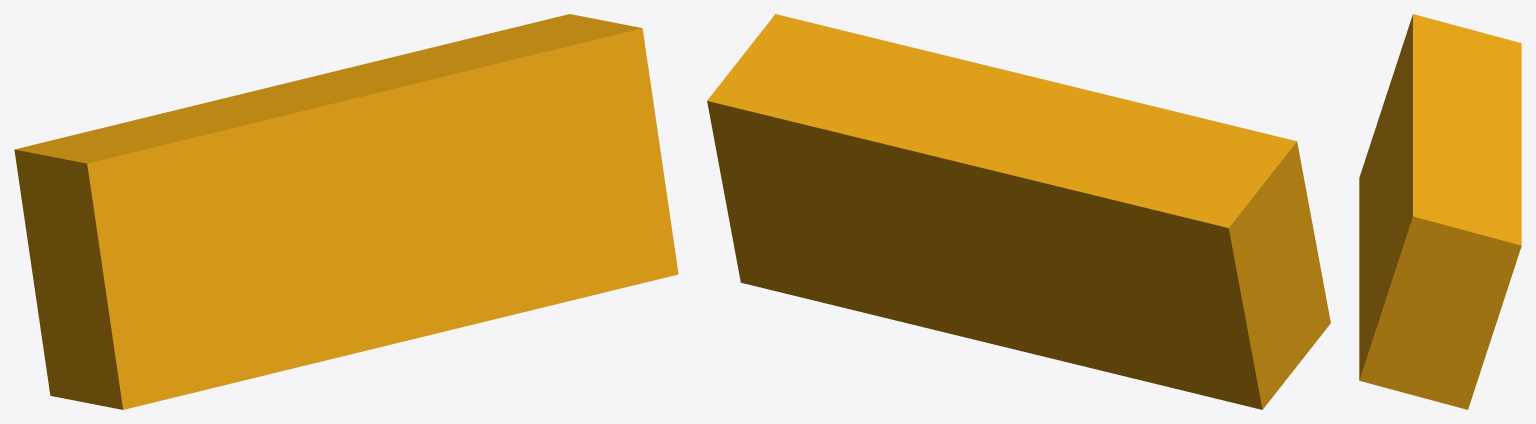
Rendered from boton09.FBX.
3 views of the same model, side by side, from view 1: azimuth 30°, elevation 25°; view 2: azimuth 150°, elevation 25°; view 3: azimuth 270°, elevation 25° (orthographic). The views are drawn at different scales.
Parts seen in each view (by area): view 1: boton009; view 2: boton009; view 3: boton009.
Part boxes in pixels (box(x1,y1,x2,y2)): boton009: box(14, 14, 678, 409); boton009: box(707, 14, 1330, 409); boton009: box(1359, 14, 1521, 409).
Size of the model in its own units: 1.73 by 0.7714 by 0.5871.
